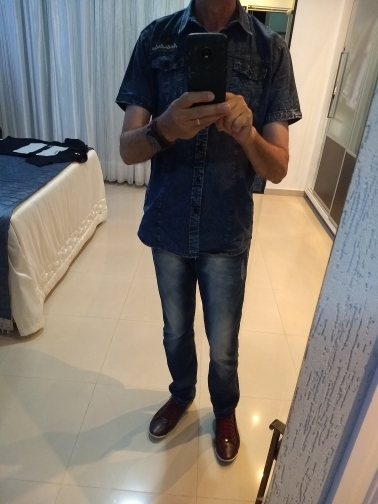shirts: (120, 5, 298, 260)
